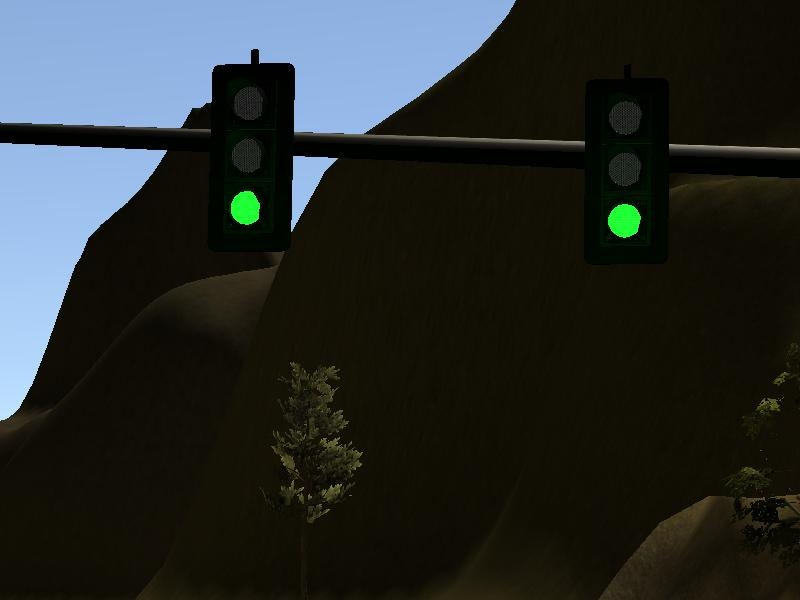GREEN: (582, 78, 678, 265), (211, 62, 294, 252)
